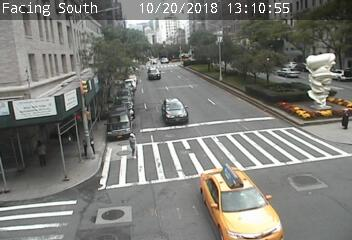car: (204, 170, 275, 240), (160, 101, 184, 120), (147, 66, 159, 79)
